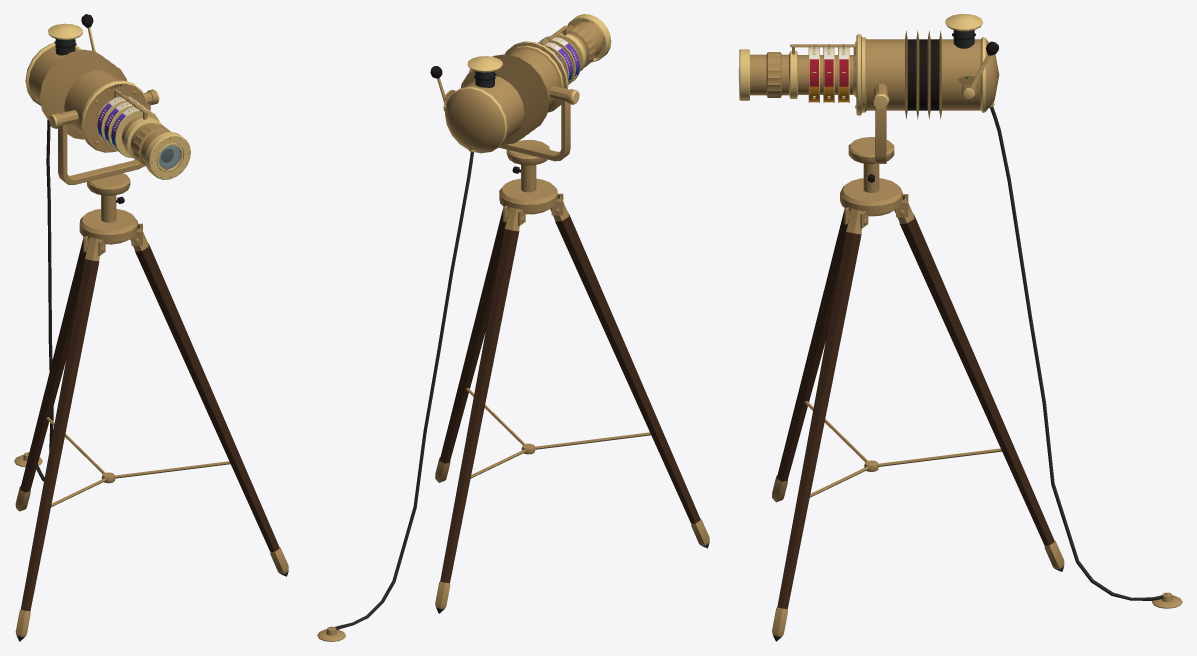
Rendered from lumen_projector.glb.
3 renders of one model, left to right at view 1: azimuth 30°, elevation 25°; view 2: azimuth 150°, elevation 25°; view 3: azimuth 270°, elevation 25°, orthographic. The views are drawn at different scales.
Parts seen in each view (by area): view 1: projector_tripod, projector_house, projector_mount, IA_lens_socket, projector_cable, IA_ring_0, lens_installed, IA_ring_2, IA_ring_1; view 2: projector_tripod, projector_house, projector_mount, projector_cable, IA_lens_socket; view 3: projector_tripod, projector_house, projector_cable, projector_mount, IA_ring_0, IA_ring_1, IA_ring_2.
Boxes of the visible parts, x1,y1,x2,y2 form: projector_tripod: (15, 209, 288, 641); projector_house: (25, 23, 170, 166); projector_mount: (49, 89, 159, 222); IA_lens_socket: (145, 132, 190, 179); projector_cable: (14, 120, 53, 481); IA_ring_0: (110, 106, 159, 157); lens_installed: (156, 143, 183, 171); IA_ring_2: (96, 96, 140, 143); IA_ring_1: (103, 101, 148, 148); projector_tripod: (435, 178, 709, 613); projector_house: (444, 22, 602, 153); projector_mount: (469, 69, 579, 192); projector_cable: (317, 151, 473, 641); IA_lens_socket: (567, 14, 611, 62); projector_tripod: (772, 178, 1064, 641); projector_house: (750, 14, 999, 119); projector_cable: (990, 106, 1182, 608); projector_mount: (848, 84, 894, 192); IA_ring_0: (808, 47, 819, 102); IA_ring_1: (823, 47, 834, 102); IA_ring_2: (838, 47, 849, 102).
Size of the model in its own units: 0.7074 by 1.29 by 0.931.
